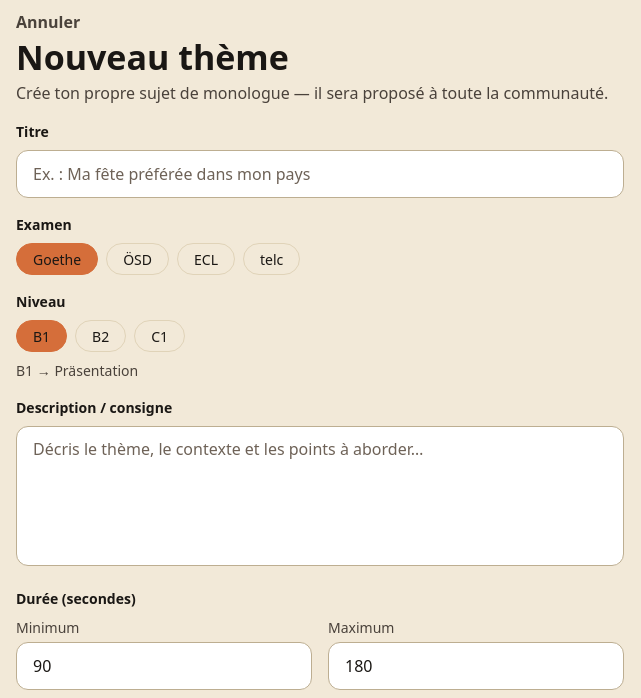
Scenario: CustomTopicScreen — community sprechen theme authoring (S7 Task 7.7) › TELC board disables the C1 chip and clamps a selected C1 to B2
The width and height of the screenshot is (641, 698).
Click the button with test id "sprechen-custom-topic-level-C1". click: (160, 336)
box: [134,320,185,352]
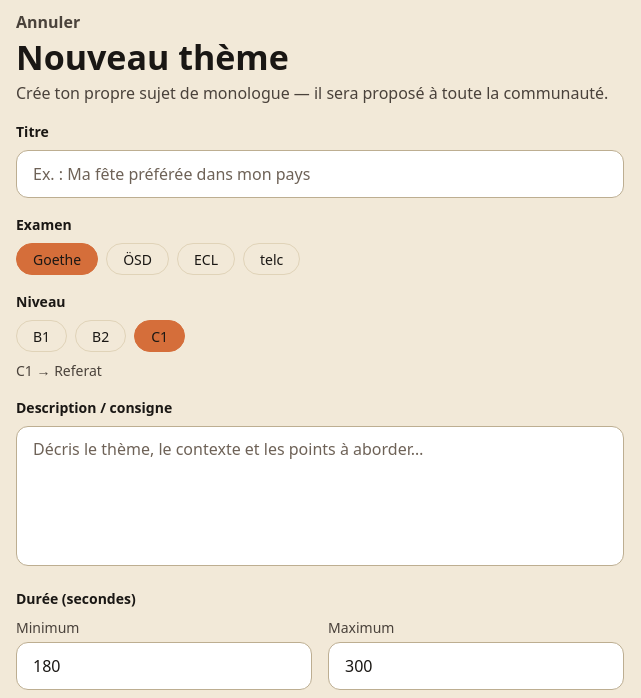
Check: the button with test id "sprechen-custom-topic-level-C1" is pressed, box [134,320,185,352]
Click the button with test id "sprechen-custom-topic-board-TELC". click: (272, 259)
box: [243,243,300,275]
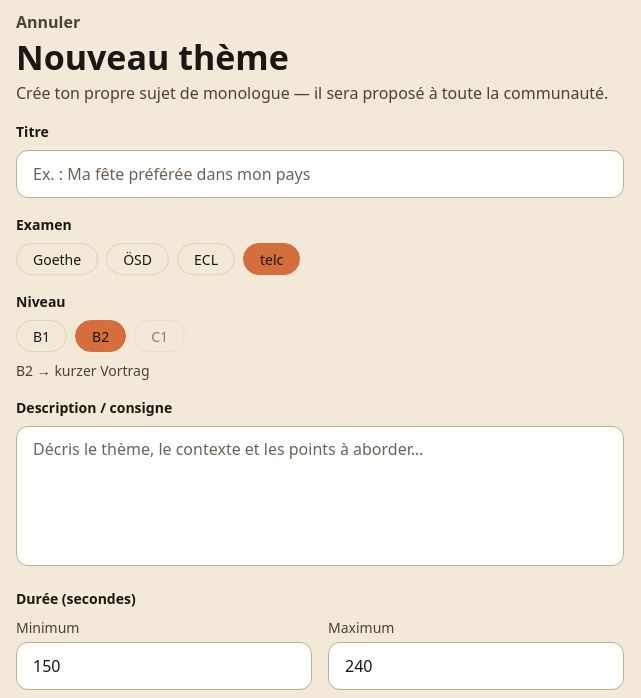
Check: the button with test id "sprechen-custom-topic-level-C1" is disabled, box [134,320,185,352]
Check: the field named "Minimum" holds "150", box [16,642,312,690]
Check: the field named "Maximum" holds "240", box [328,642,624,690]
